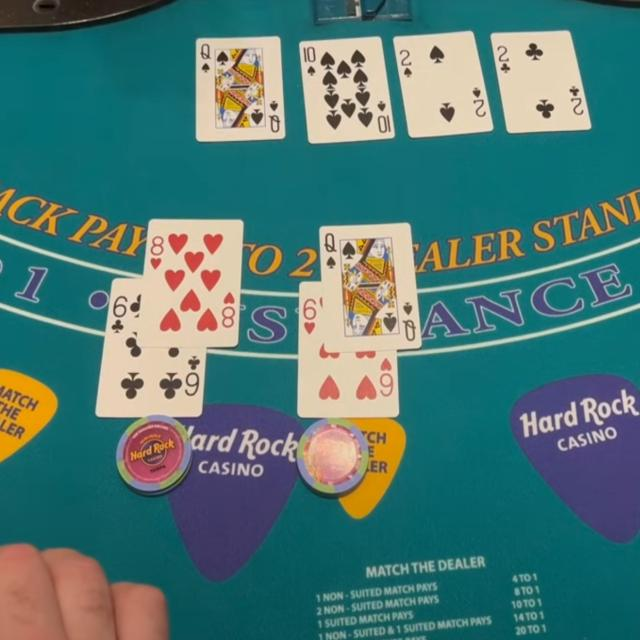10: (301, 45, 317, 63)
2: (397, 46, 415, 67), (496, 42, 513, 64)
6: (299, 296, 320, 321), (112, 290, 129, 318)
8: (147, 234, 166, 257)
Q: (322, 232, 339, 254), (198, 41, 212, 61)
